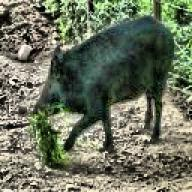boar: (30, 13, 174, 153)
